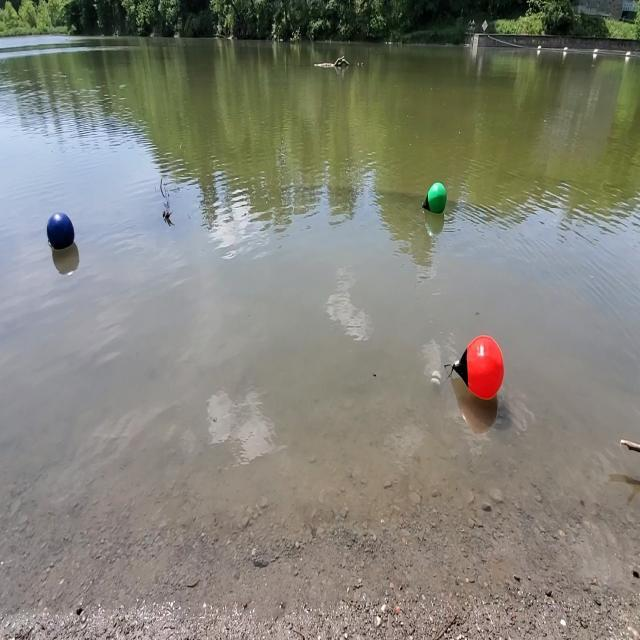buoy: (444, 329, 512, 407), (44, 206, 76, 256), (418, 179, 451, 215)
